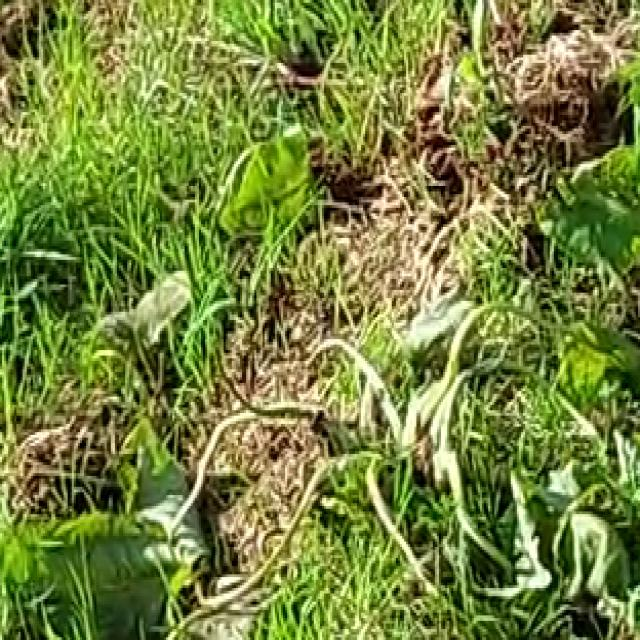organic waste: (133, 112, 640, 640)
